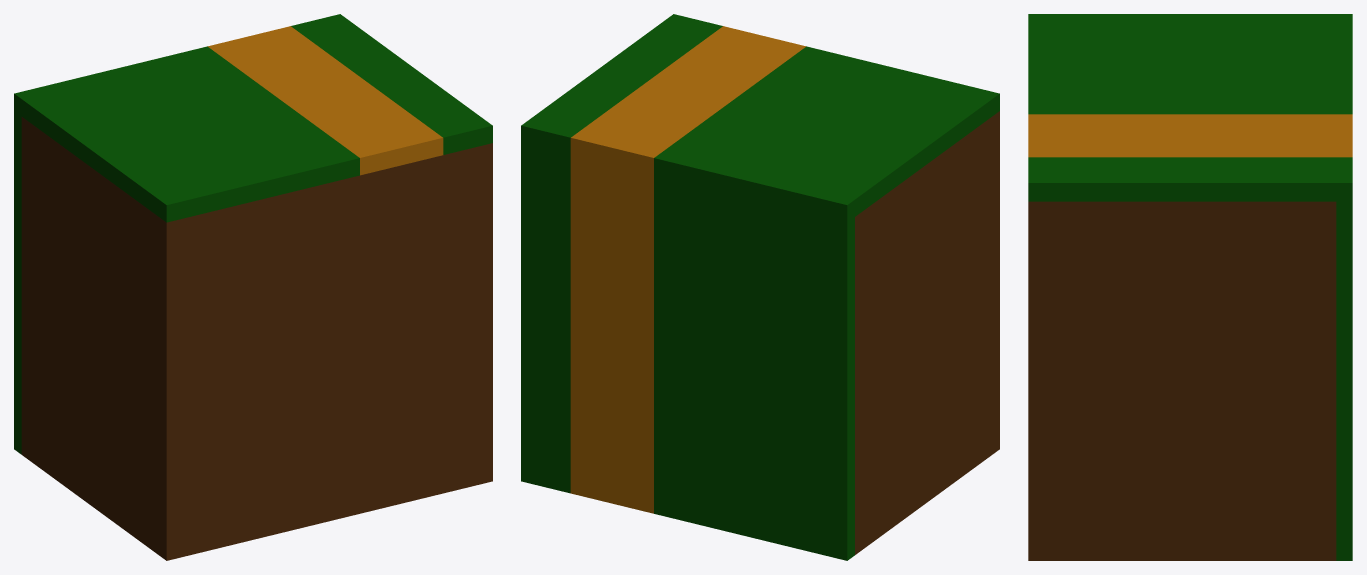
The model's file is solcoin.fbx.
3 renders of one model, left to right at view 1: azimuth 30°, elevation 25°; view 2: azimuth 150°, elevation 25°; view 3: azimuth 270°, elevation 25°, orthographic. The views are drawn at different scales.
Parts seen in each view (by area): view 1: floor.001; view 2: floor.001; view 3: floor.001.
Boxes of the visible parts, x1,y1,x2,y2 form: floor.001: (14,14,492,560); floor.001: (521,14,999,560); floor.001: (1028,14,1352,560).
Bounding box in the file's own units: 3873 × 4036 × 3137.
